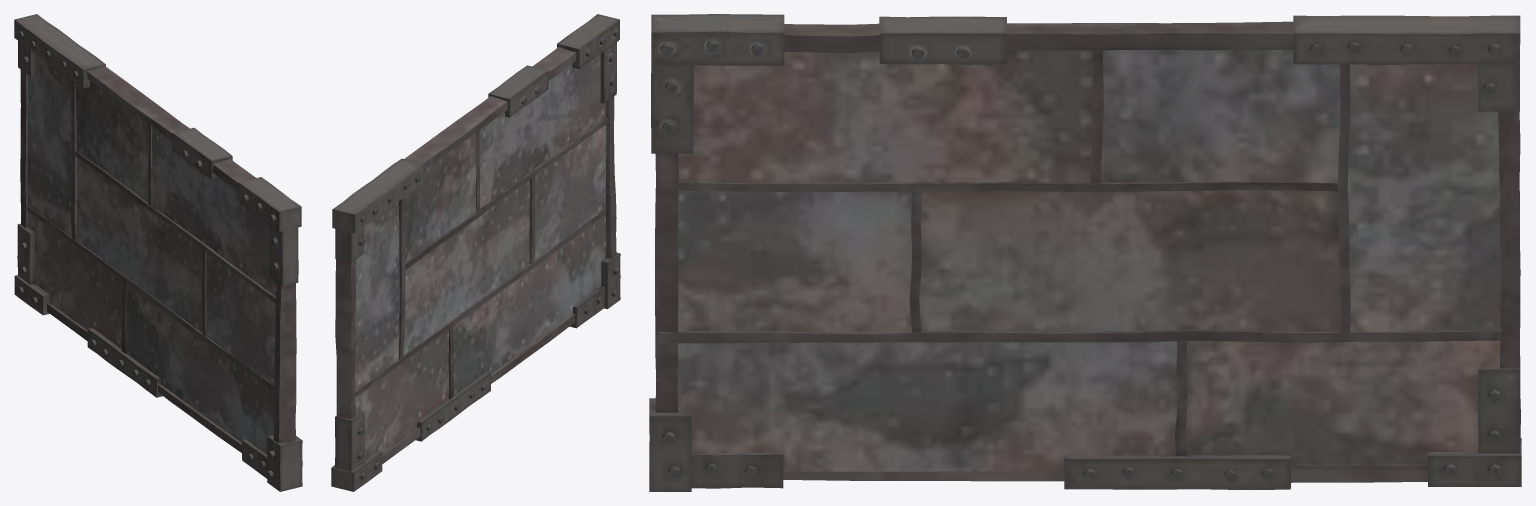
Rendered from SM_WallDiagonal_Iron_54e057.glb.
The picture shows the model from 3 angles, left to right: view 1: azimuth 30°, elevation 25°; view 2: azimuth 150°, elevation 25°; view 3: azimuth 270°, elevation 25°; orthographic projection. The views are drawn at different scales.
Bounding box in the file's own units: 0.3786 × 3.33 × 5.72.
1 material, 1 textured.
